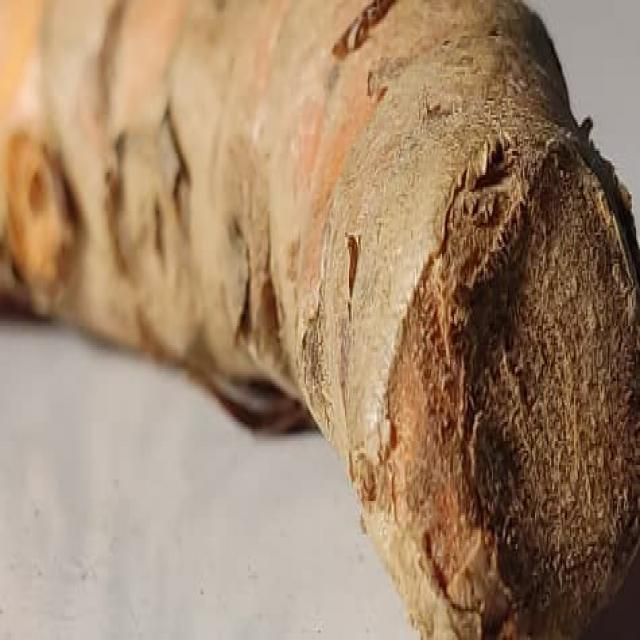ginger: (204, 0, 634, 611)
